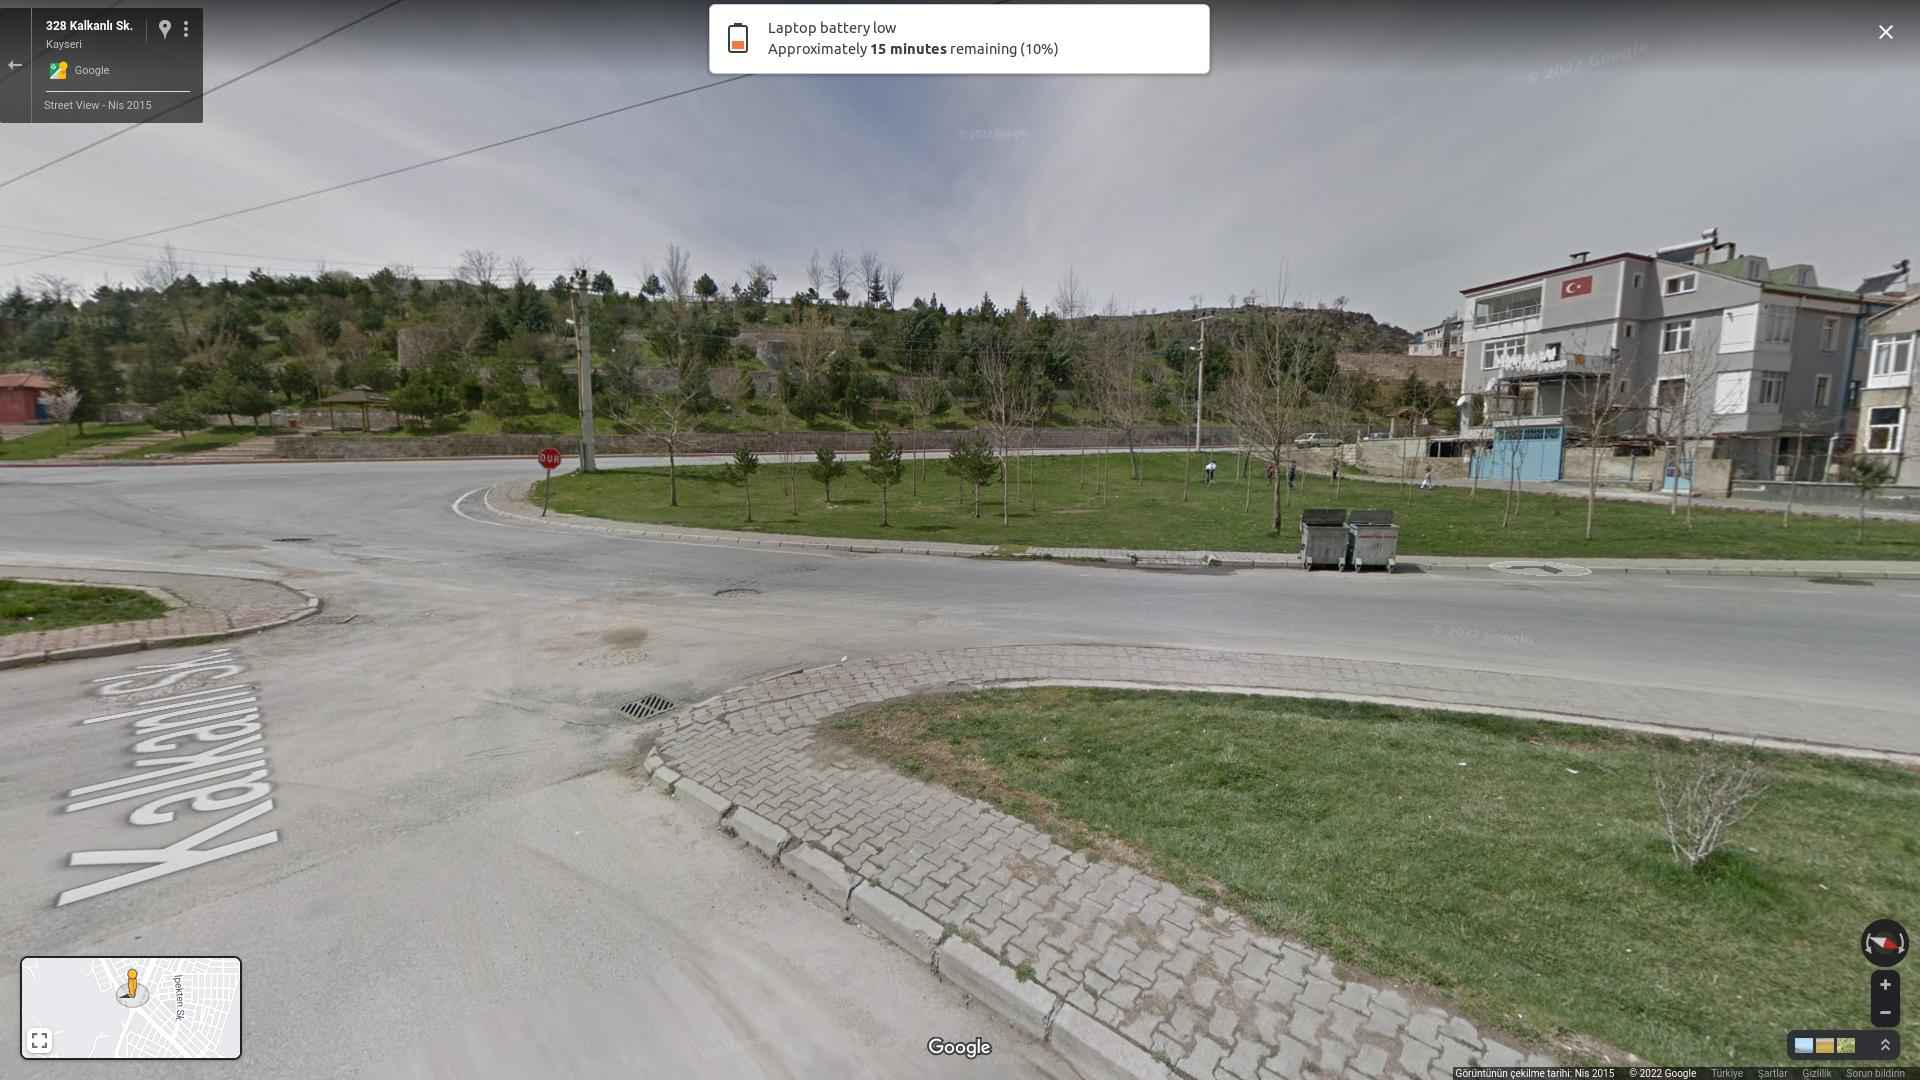stop: (539, 448, 563, 471)
